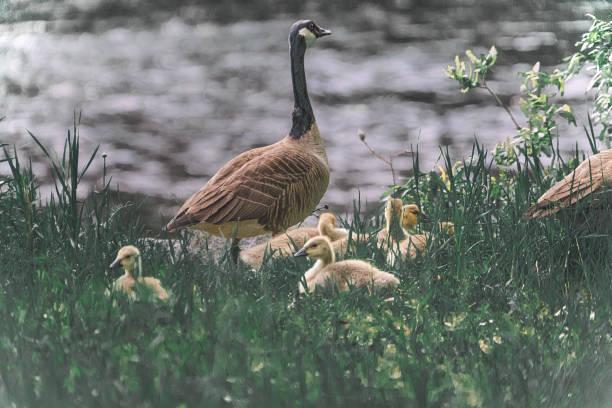Canadian-Goose: (174, 18, 336, 243), (290, 237, 403, 299), (107, 246, 171, 301), (380, 197, 428, 258), (316, 212, 360, 241), (383, 199, 404, 248)
